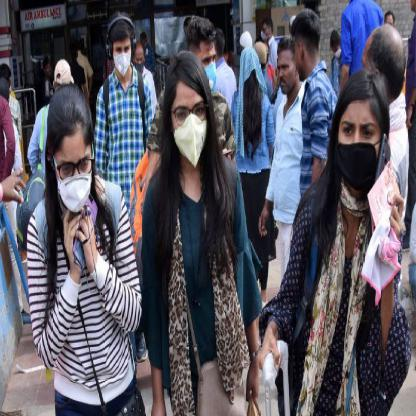Not_Wearing_Mask: (276, 44, 296, 93)
Wearing_Mask: (166, 75, 218, 172), (50, 132, 94, 226), (339, 102, 379, 194), (198, 36, 219, 96), (110, 34, 132, 91), (132, 45, 144, 73)
